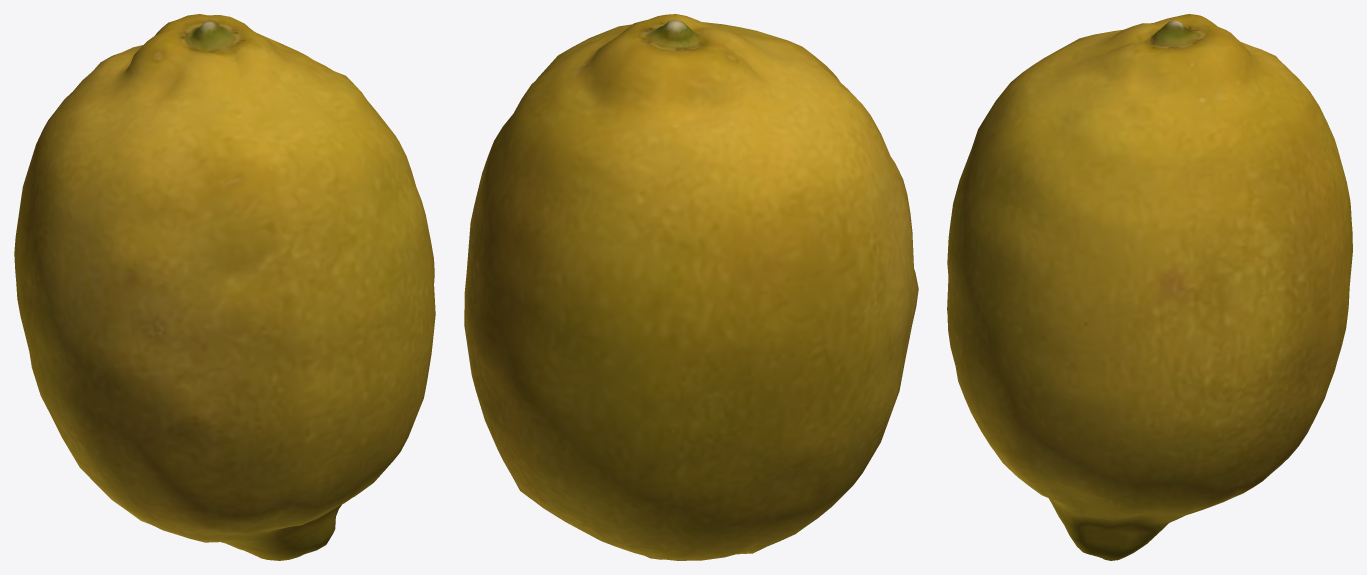
Rendered from lemon.glb.
3 renders of one model, left to right at view 1: azimuth 30°, elevation 25°; view 2: azimuth 150°, elevation 25°; view 3: azimuth 270°, elevation 25°, orthographic. The views are drawn at different scales.
Parts seen in each view (by area): view 1: lemon; view 2: lemon; view 3: lemon.
Boxes of the visible parts, x1,y1,x2,y2 form: lemon: (14,14,435,560); lemon: (464,14,918,560); lemon: (947,14,1352,560).
Size of the model in its own units: 0.0687 by 0.0954 by 0.0683.
Materials: 1 (1 with a texture image).
